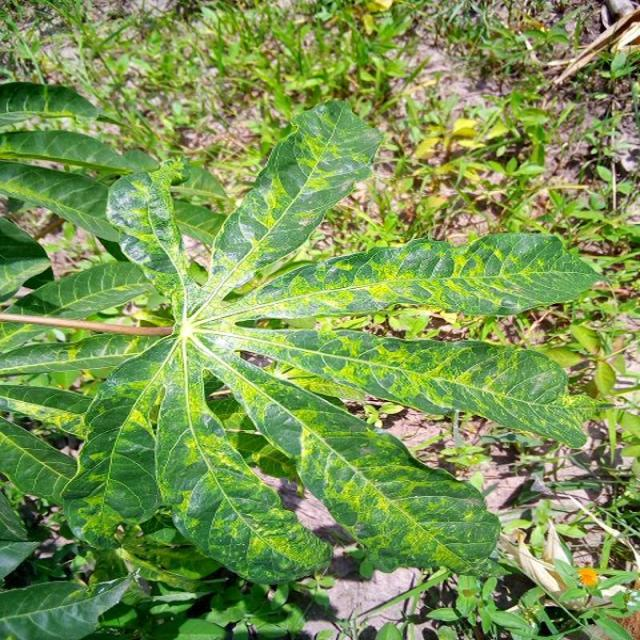cassava leaf: (3, 94, 605, 594)
